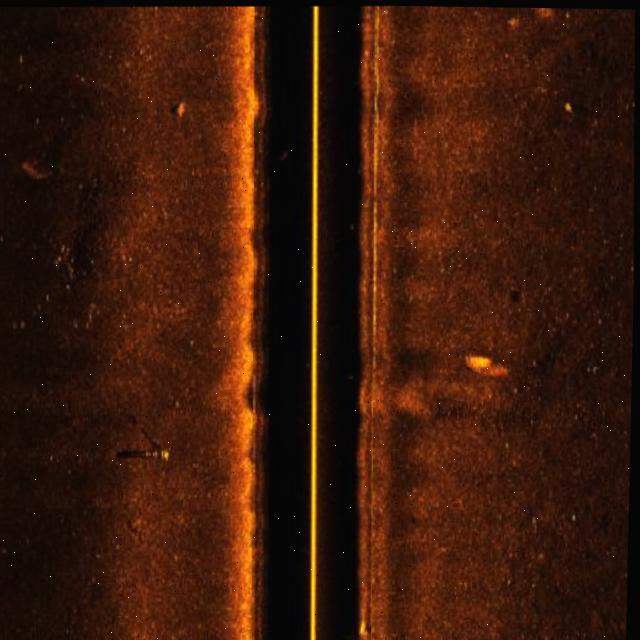mine: (135, 430, 176, 466), (553, 96, 581, 114), (168, 98, 192, 113)
